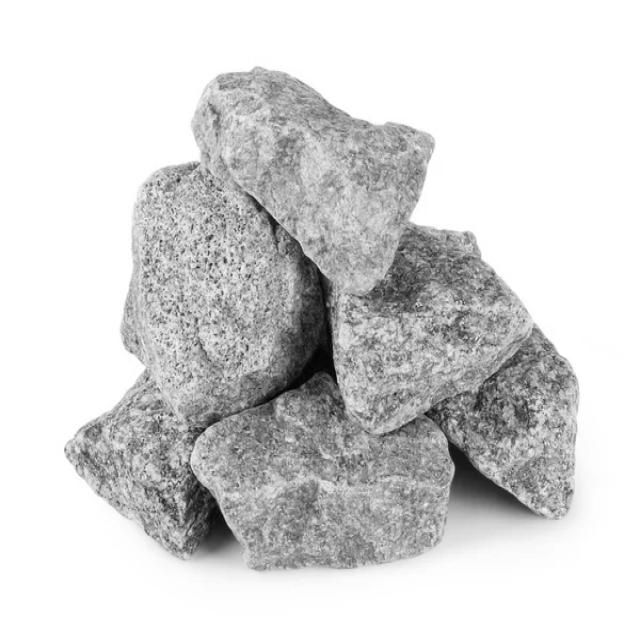Stone: (192, 67, 435, 296), (121, 163, 324, 429), (192, 374, 455, 572), (326, 224, 534, 435), (428, 327, 580, 519), (64, 371, 217, 560)
